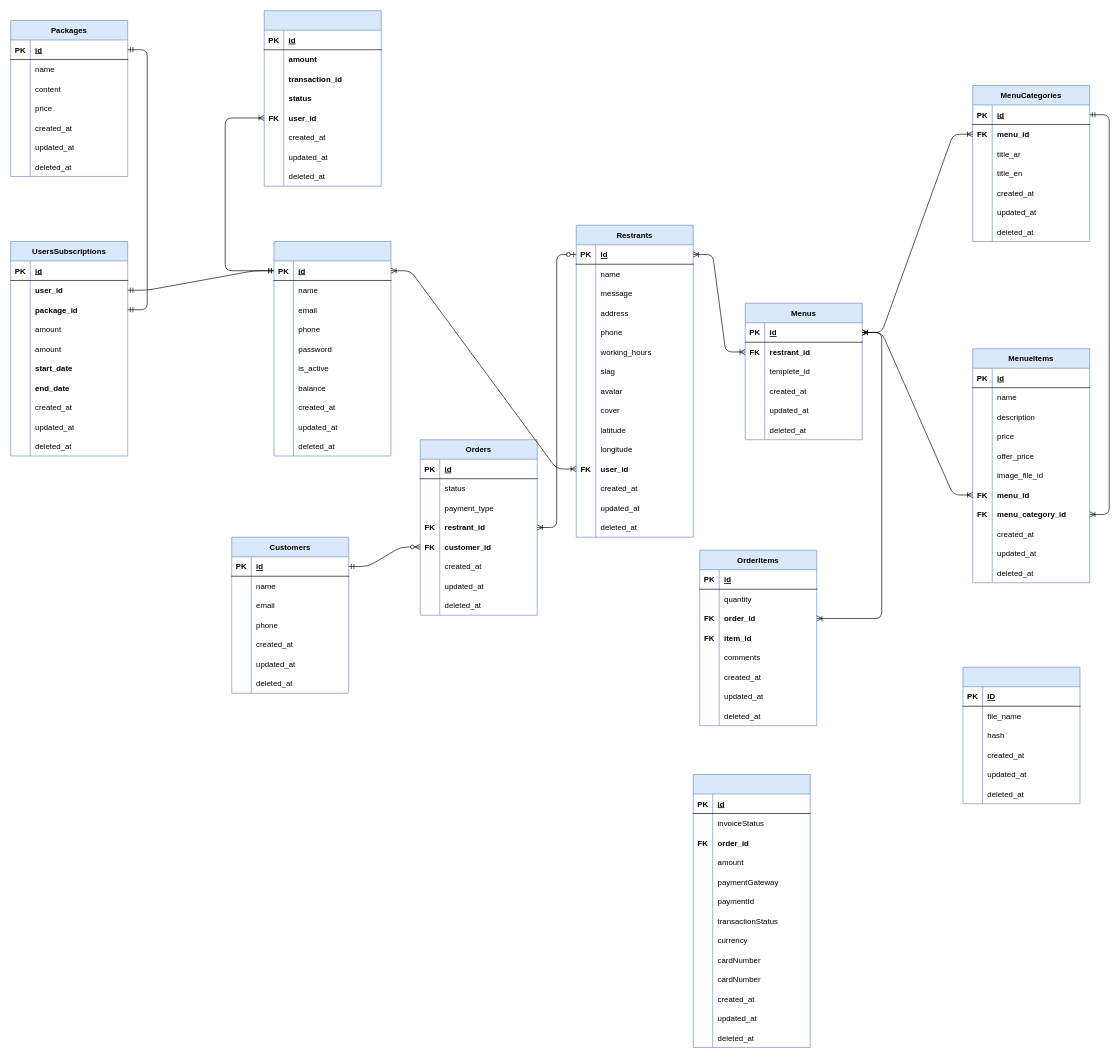
This 1120x1058 diagram has some shape labels left out. The box of each missing label's shape, as (x1, y1, x2, y2) in pixels:
CustomersPayments: (693, 774, 810, 1047)
Files: (962, 667, 1080, 804)
PaymentTransactions: (264, 10, 381, 186)
users: (273, 241, 391, 456)
